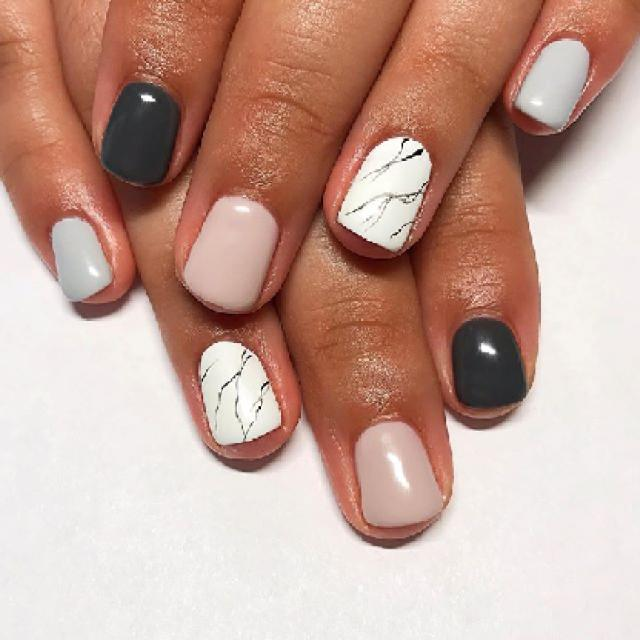Nail: (182, 196, 279, 312), (338, 136, 431, 252), (355, 421, 442, 527), (199, 341, 281, 445), (100, 81, 180, 185), (514, 39, 590, 130), (452, 318, 528, 407), (51, 218, 112, 301)
